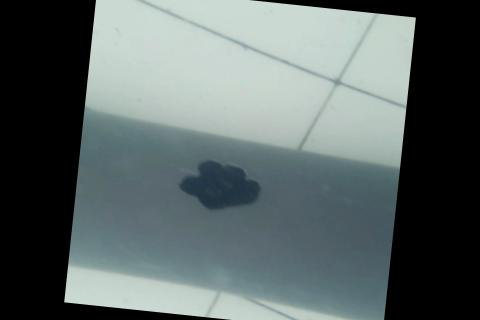kebocoran: (174, 154, 268, 215)
